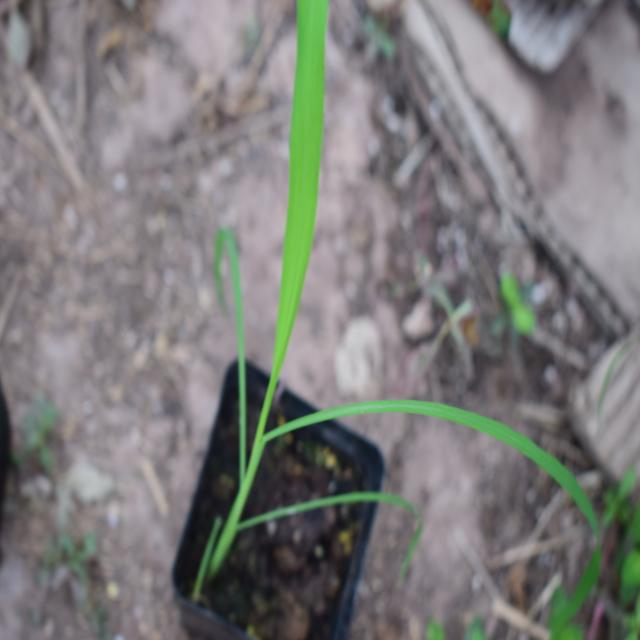barnyard_grass: (210, 5, 588, 556)
